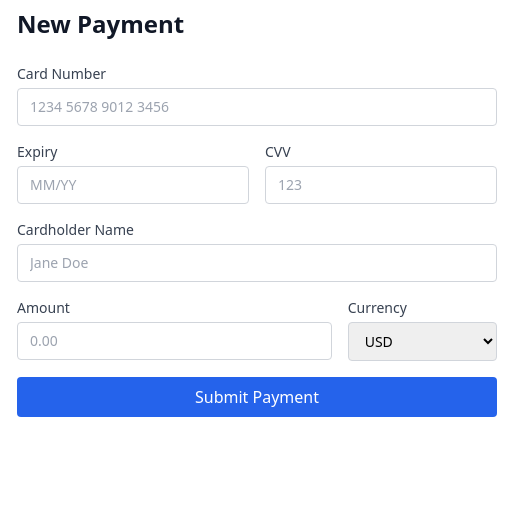
Test: shows amount error for zero
The image size is (515, 530).
In the number field labelled "Amount": (174, 341) [17,322,332,360], type "0"
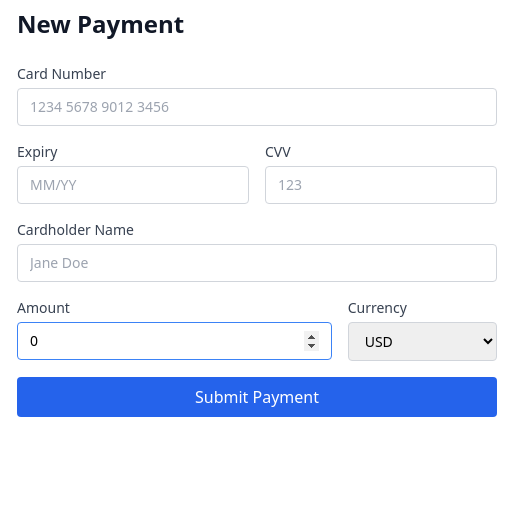
Click the button "Submit Payment": click(257, 397) [17,377,497,417]
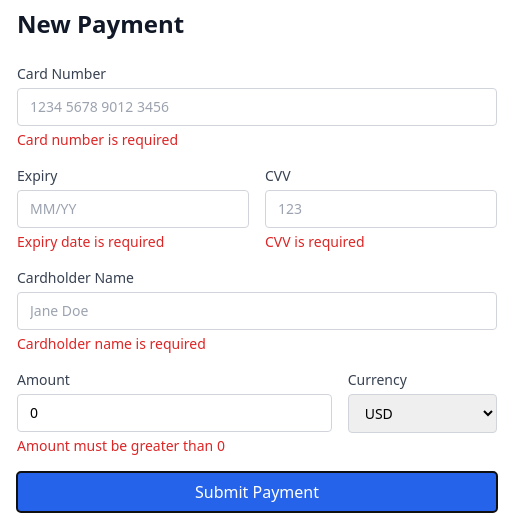
Check: the text "Amount must be greater than 0" is shown, box [17,436,225,455]
